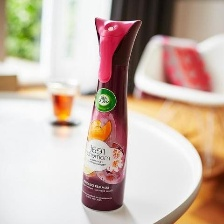aerosol_cans: (76, 8, 149, 216)
